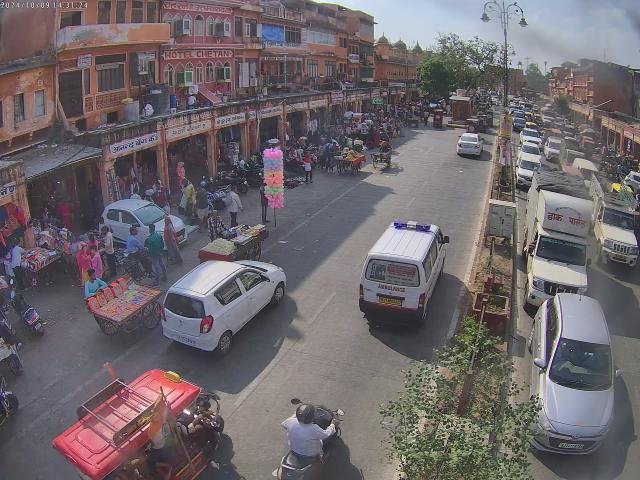auto: (52, 368, 226, 480), (466, 115, 486, 135)
bus: (356, 221, 448, 330)
car: (530, 290, 624, 458), (158, 258, 288, 355), (98, 200, 187, 259), (514, 152, 548, 190), (456, 134, 484, 158), (520, 133, 546, 154), (511, 111, 526, 132)
helmet: (293, 404, 315, 424)
license_plate: (378, 296, 402, 306), (558, 442, 584, 451), (177, 336, 195, 344), (614, 254, 626, 260)
lorry: (521, 168, 594, 308), (592, 182, 639, 268)
person: (179, 178, 196, 212), (8, 240, 26, 266), (146, 178, 164, 202)
scooty-rider: (276, 401, 340, 480), (8, 288, 46, 333)
vendor: (85, 269, 163, 340), (196, 224, 266, 263), (338, 150, 365, 175)
